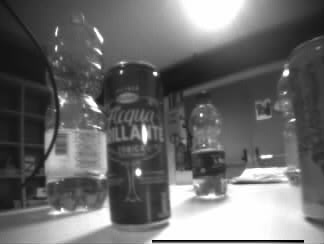Bottle: (45, 11, 105, 208), (191, 93, 225, 195), (279, 65, 296, 169)
Tin can: (106, 62, 169, 225), (291, 36, 324, 221)
